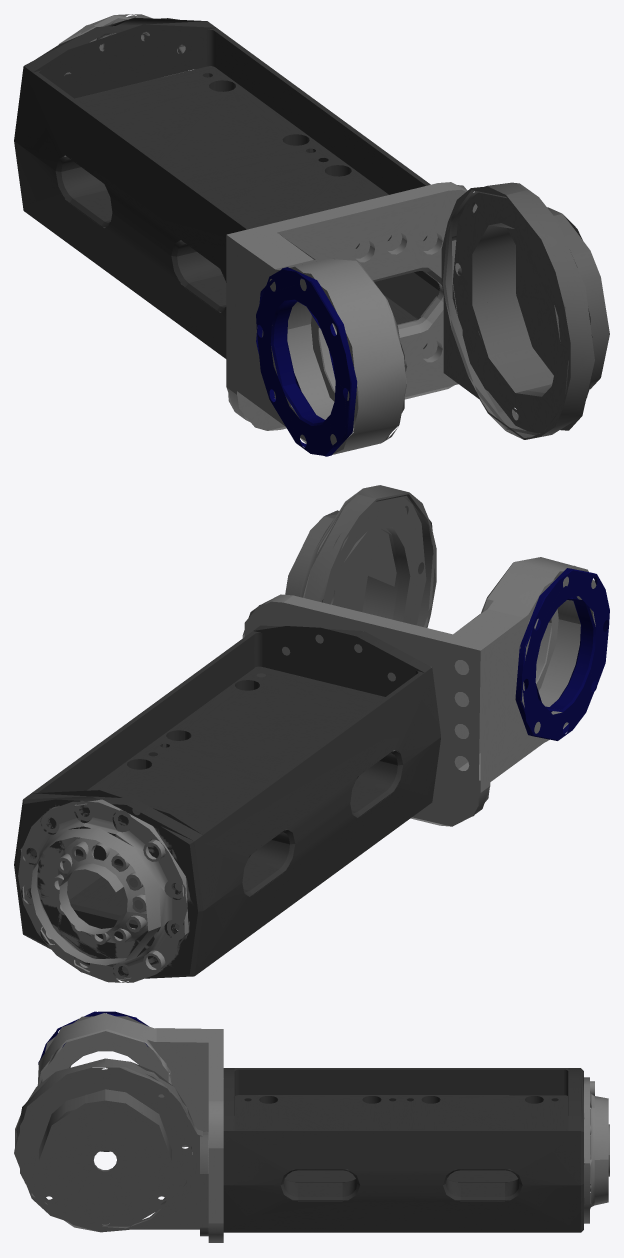
Rendered from armr_sho4_joint.obj.
3 renders of one model, top to bottom at view 1: azimuth 30°, elevation 25°; view 2: azimuth 150°, elevation 25°; view 3: azimuth 270°, elevation 25°, orthographic. The views are drawn at different scales.
Size of the model in its own units: 0.072 by 0.066 by 0.2019.
Materials: 1 (1 with a texture image).
